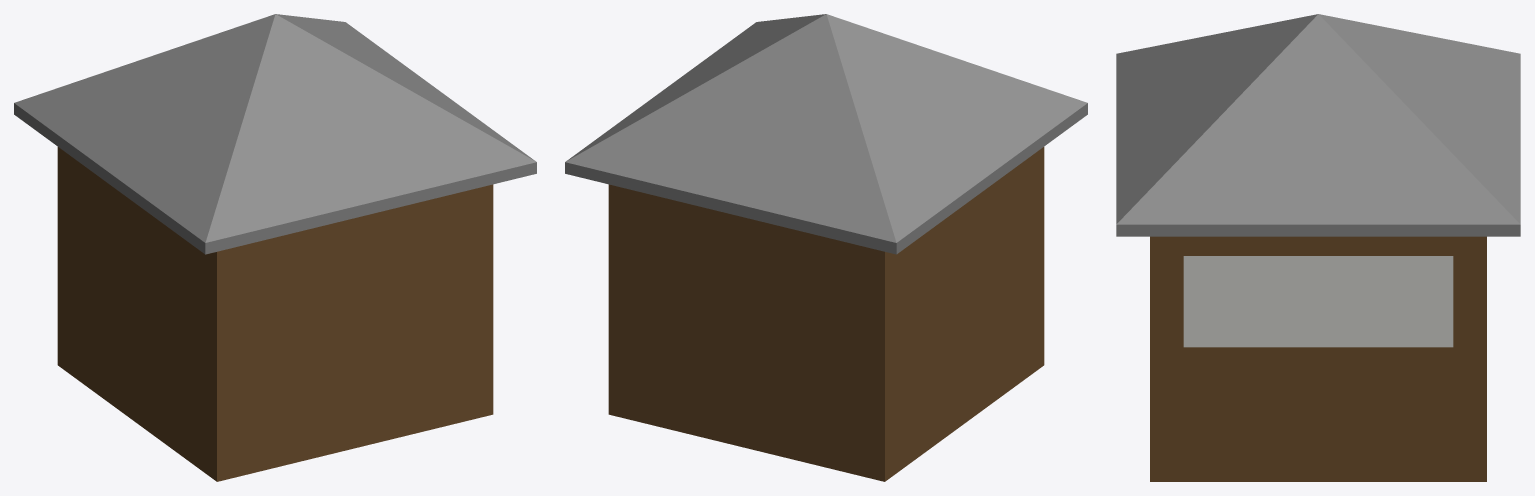
The model's file is information_kiosk.obj.
3 views of the same model, side by side, from view 1: azimuth 30°, elevation 25°; view 2: azimuth 150°, elevation 25°; view 3: azimuth 270°, elevation 25° (orthographic). The views are drawn at different scales.
Bounding box in the file's own units: 2.4 × 2.6 × 2.4.
